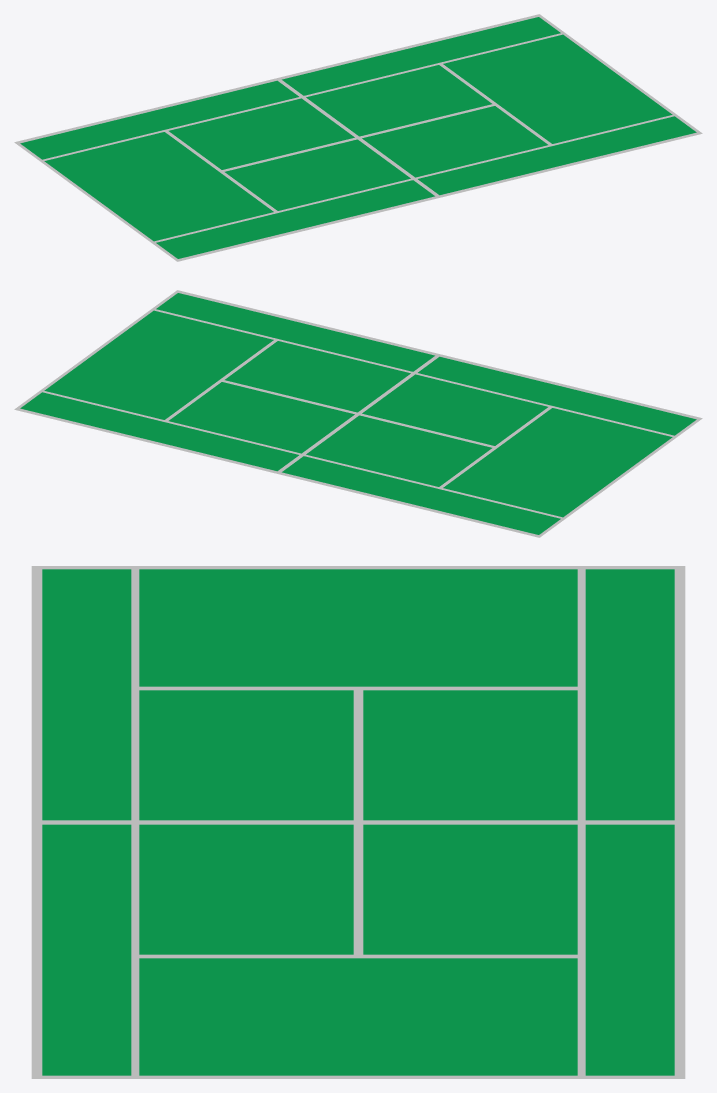
Rendered from TennisCourt.fbx.
The picture shows the model from 3 angles, top to bottom: view 1: azimuth 30°, elevation 25°; view 2: azimuth 150°, elevation 25°; view 3: azimuth 270°, elevation 25°; orthographic projection. The views are drawn at different scales.
Parts seen in each view (by area): view 1: Plane; view 2: Plane; view 3: Plane.
Part boxes in pixels (x1,y1,x2,y2): Plane: [14, 14, 702, 261]; Plane: [14, 290, 702, 537]; Plane: [31, 566, 685, 1078].
Bounding box in the file's own units: 863 × 2.03e-05 × 464.
